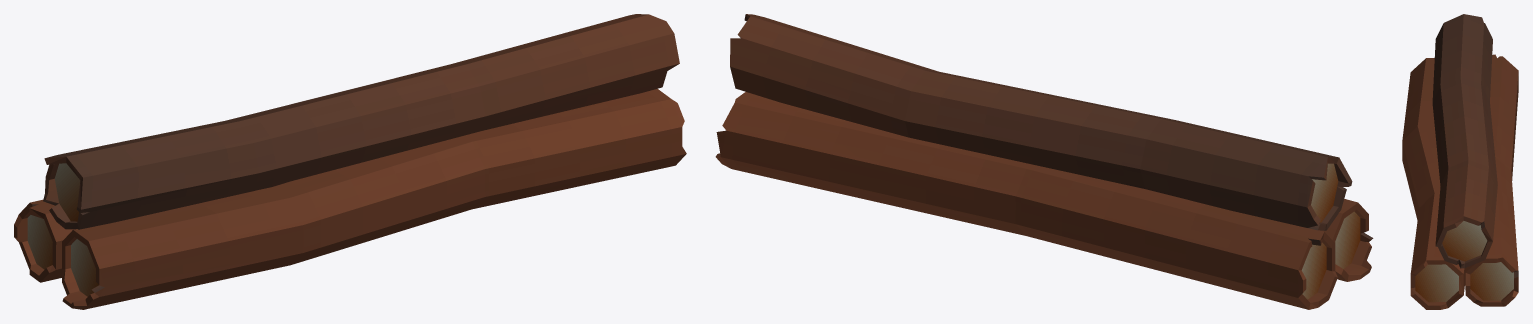
The model's file is pilha_troncos.glb.
The picture shows the model from 3 angles, left to right: view 1: azimuth 30°, elevation 25°; view 2: azimuth 150°, elevation 25°; view 3: azimuth 270°, elevation 25°; orthographic projection. The views are drawn at different scales.
Parts seen in each view (by area): view 1: TreeLogPileNormalB; view 2: TreeLogPileNormalB; view 3: TreeLogPileNormalB.
Boxes of the visible parts, x1,y1,x2,y2 form: TreeLogPileNormalB: [14, 14, 686, 309]; TreeLogPileNormalB: [715, 14, 1373, 309]; TreeLogPileNormalB: [1402, 14, 1518, 309].
Bounding box in the file's own units: 5.25 × 1.08 × 1.22.
Materials: 1 (1 with a texture image).
